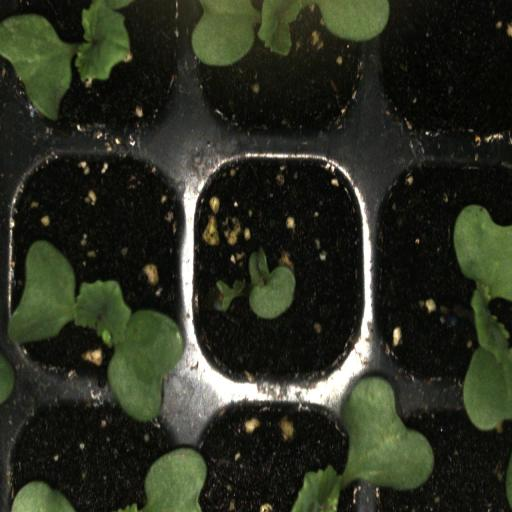seedling: (4, 142, 190, 395), (369, 140, 512, 395), (6, 0, 192, 137), (188, 0, 374, 134)
weak: (189, 140, 365, 390)
